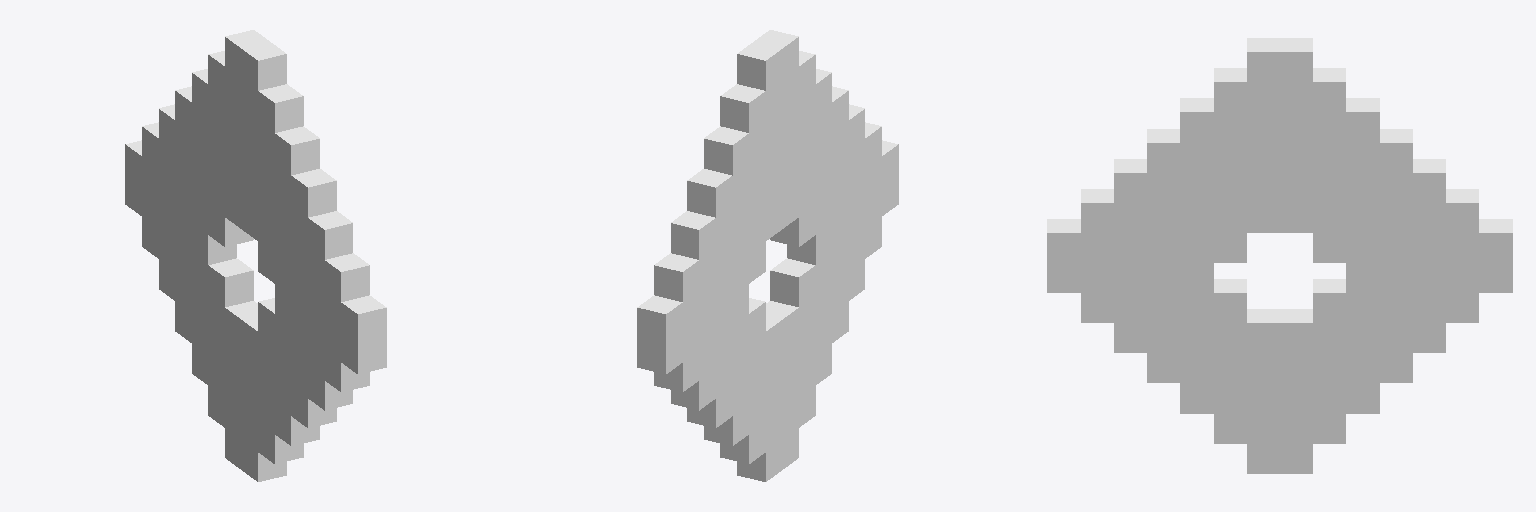
The model's file is rodaserraaux.obj.
3 views of the same model, side by side, from view 1: azimuth 30°, elevation 25°; view 2: azimuth 150°, elevation 25°; view 3: azimuth 270°, elevation 25° (orthographic).
Parts seen in each view (by area): view 1: rodaserraaux; view 2: rodaserraaux; view 3: rodaserraaux.
Boxes of the visible parts, x1=… form: rodaserraaux: x1=125, y1=30, x2=386, y2=481; rodaserraaux: x1=637, y1=30, x2=898, y2=481; rodaserraaux: x1=1047, y1=38, x2=1512, y2=473.
Bounding box in the file's own units: 1 × 14 × 14.